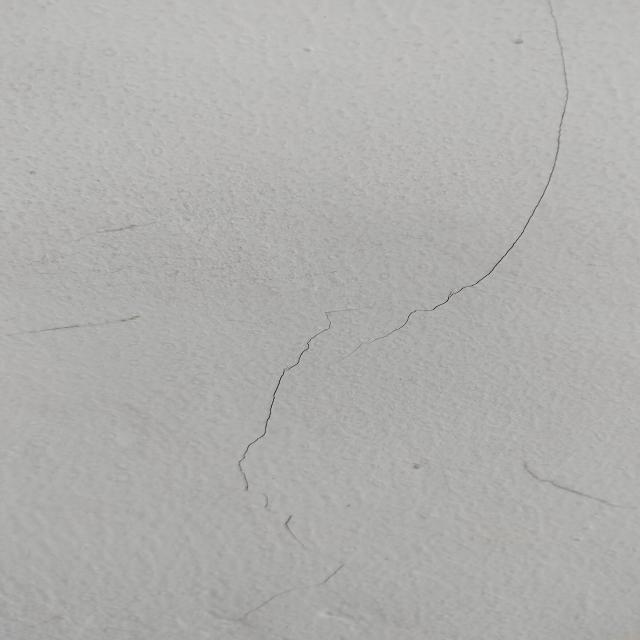Crack: (203, 2, 583, 585)
